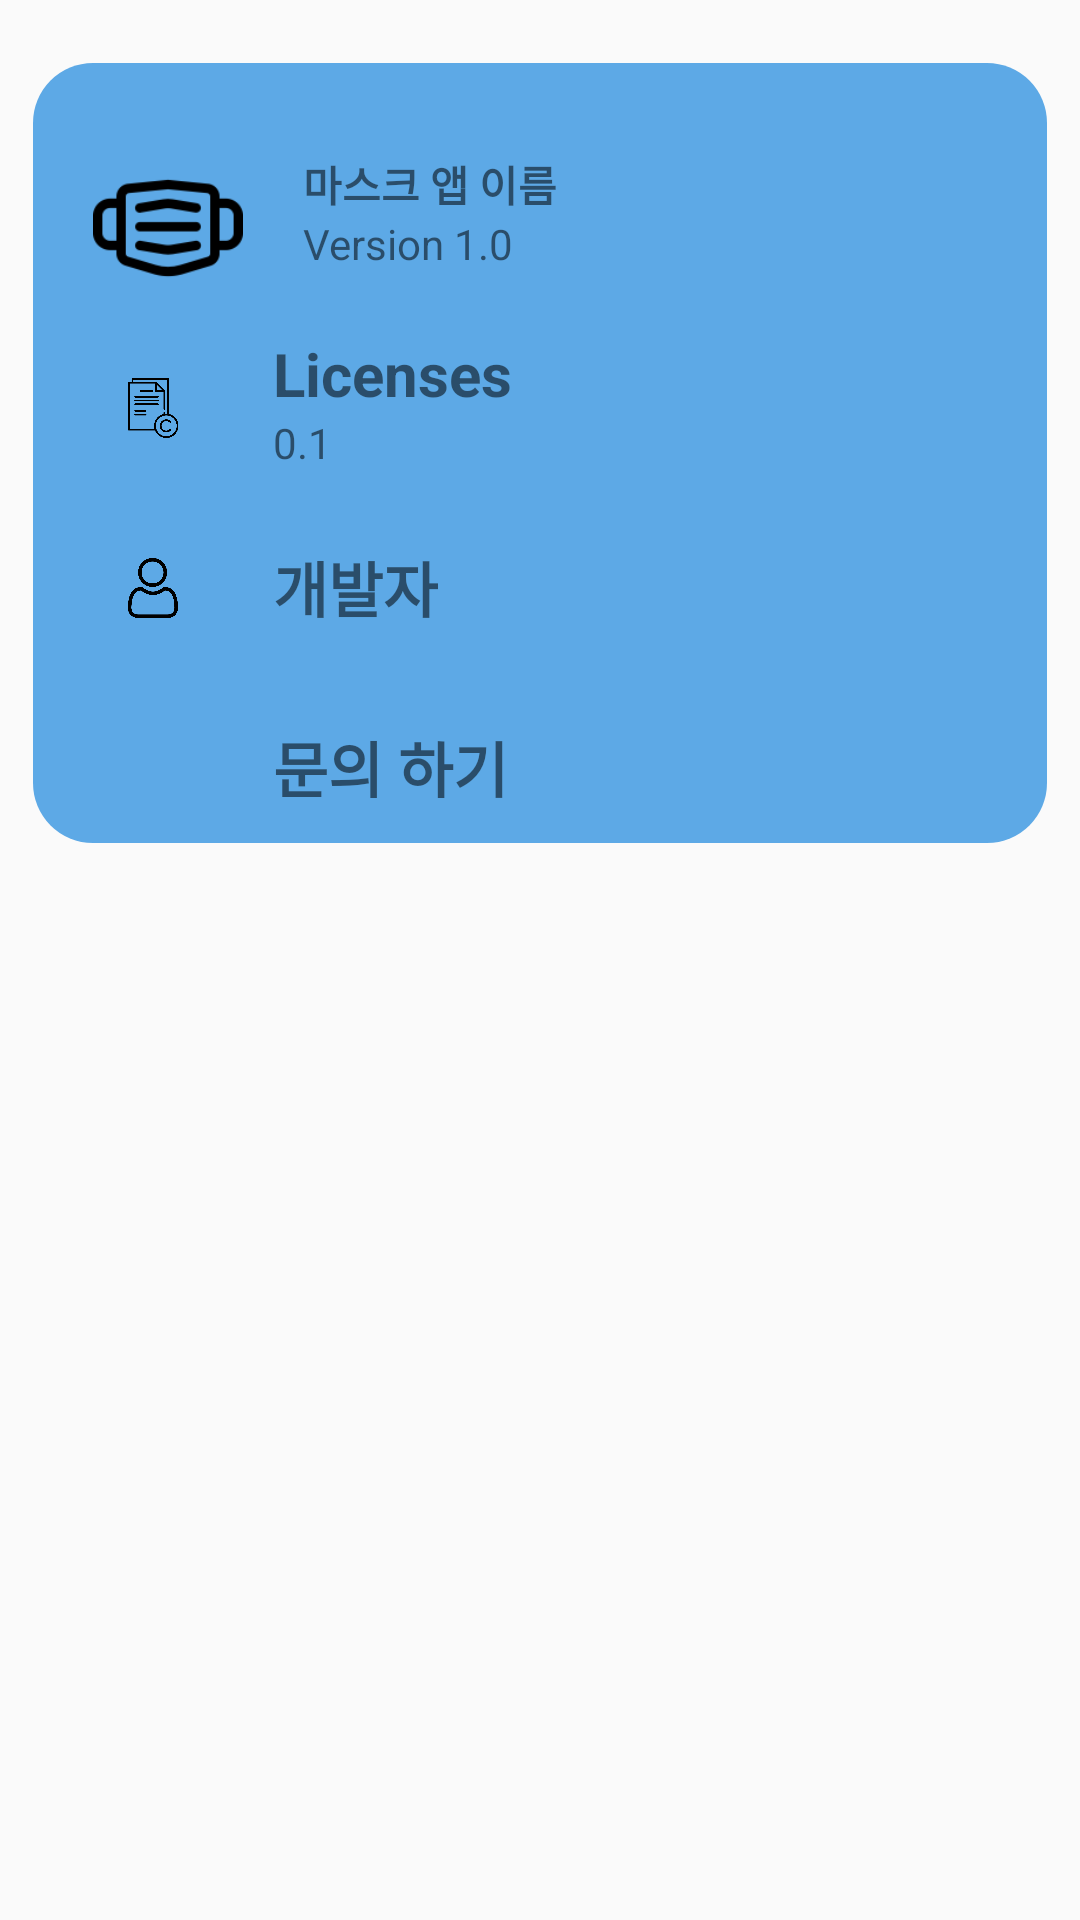

Named icons in this screenshot (1080w x 1920h) and their centers, [x,y]:
manicon: [153,588]
